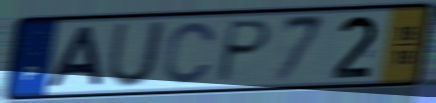2: (332, 14, 379, 81)
7: (275, 12, 328, 86)
A: (41, 24, 107, 90)
C: (161, 20, 219, 86)
P: (213, 18, 275, 85)
U: (104, 19, 168, 90)
